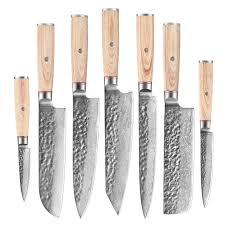Knife: (101, 7, 132, 214), (162, 21, 193, 214), (70, 13, 98, 218), (36, 22, 64, 217), (135, 12, 155, 218), (198, 59, 213, 207), (13, 75, 30, 200)
